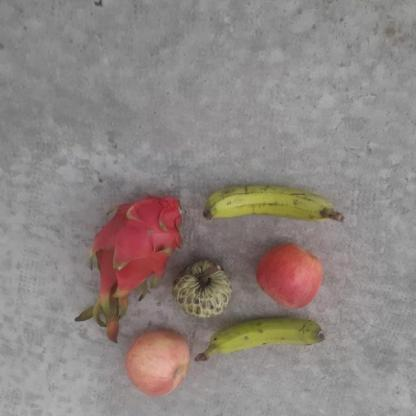annona: (173, 256, 233, 318)
apple: (253, 239, 328, 312), (122, 328, 195, 398)
banana: (202, 179, 330, 231), (197, 315, 321, 360)
pitaya: (86, 194, 186, 302)
